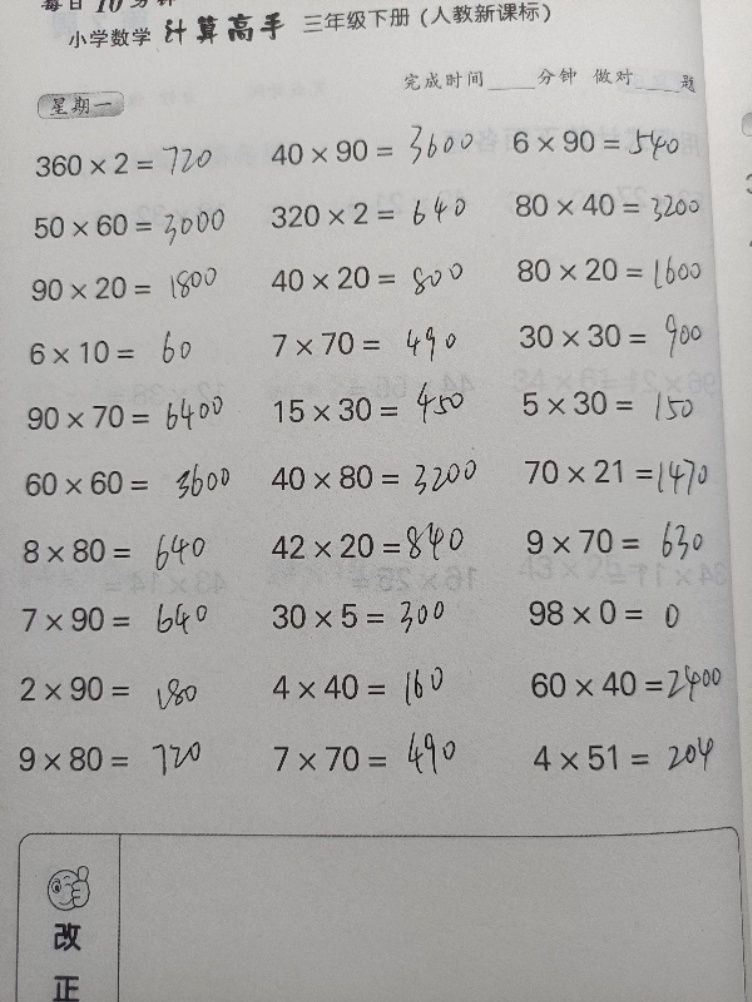equation: (261, 510, 486, 569), (519, 653, 744, 709), (515, 450, 741, 505), (259, 452, 485, 506), (24, 202, 249, 256), (262, 591, 488, 643), (506, 247, 732, 299), (16, 390, 242, 441), (504, 179, 717, 229), (9, 736, 234, 782), (264, 735, 490, 780), (262, 664, 488, 709), (11, 527, 237, 572), (515, 519, 741, 564), (511, 380, 737, 425), (523, 735, 748, 780), (519, 590, 744, 635), (501, 114, 697, 165), (10, 666, 236, 710), (262, 387, 488, 431), (13, 597, 238, 641), (14, 461, 239, 505), (509, 314, 734, 357), (261, 256, 486, 299), (262, 322, 488, 364), (20, 267, 246, 309), (25, 143, 251, 185), (18, 331, 243, 373), (261, 193, 486, 235), (259, 132, 485, 173)
